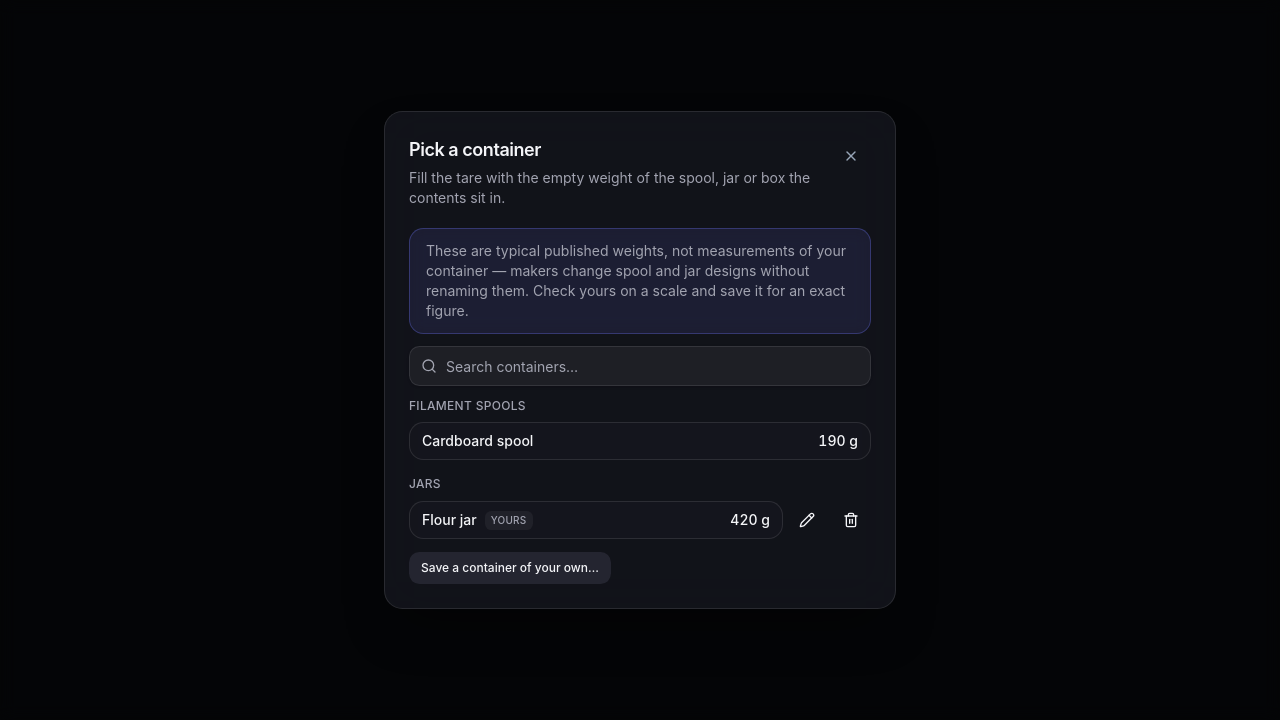
Test: TarePresetPicker — editing a saved container › opens the form pre-filled with what the container holds
Click the button named "Edit Flour jar".
click(807, 520)  # box [787,500,827,540]
(page scrolled)
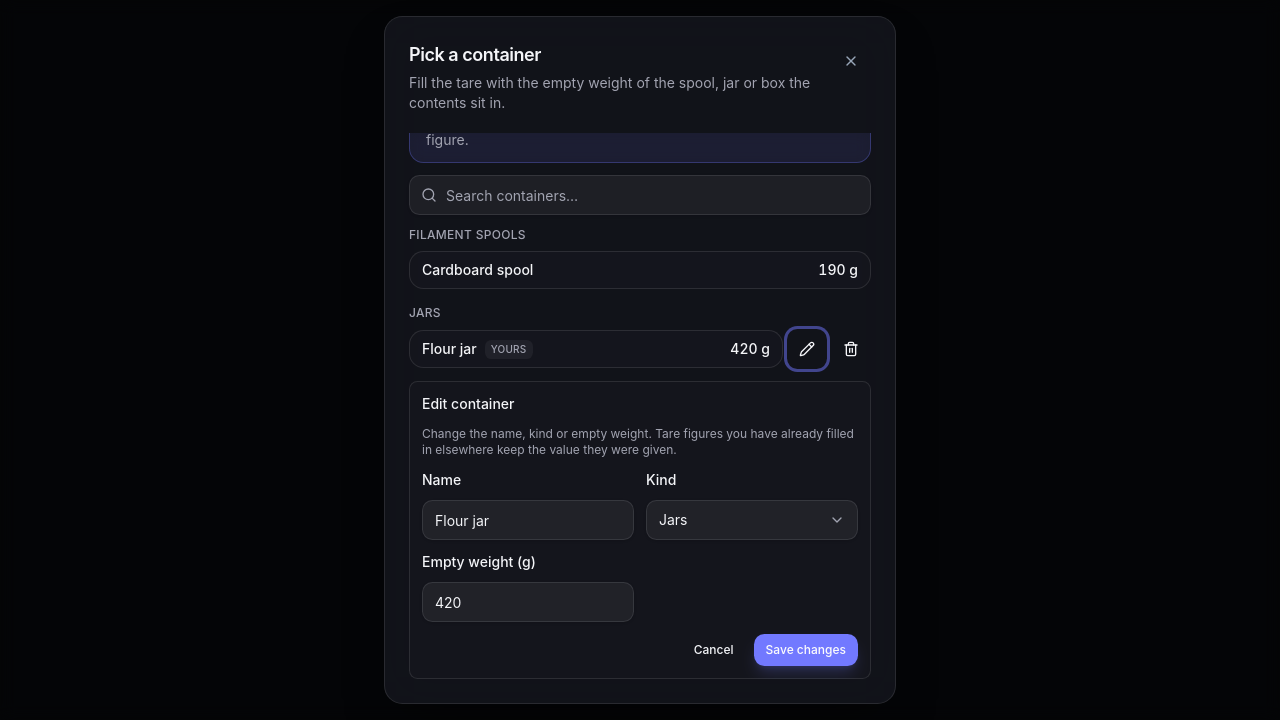
expect the heading "Edit container" is shown: met, box [422,395,514,412]
expect the field with test id "tare-preset-name" holds "Flour jar": met, box [422,500,634,540]
expect the number field with test id "tare-preset-weight" holds "420": met, box [422,582,634,622]
